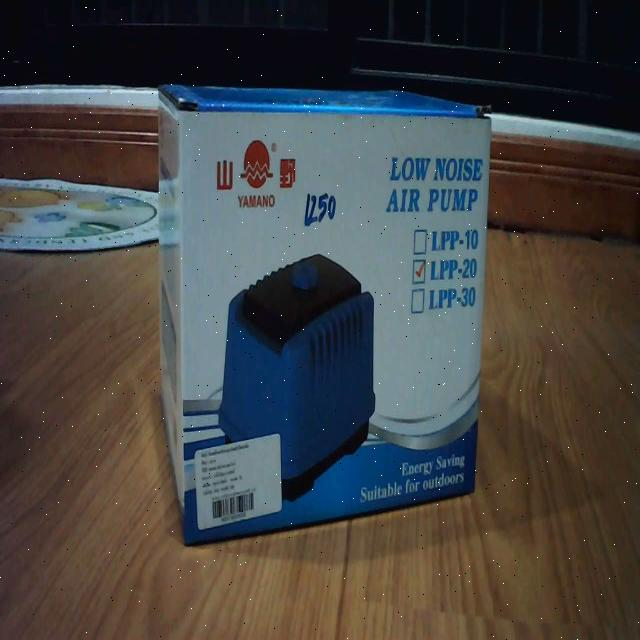YAMANO_LPP_20: (146, 66, 498, 545)
